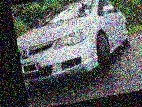car: (11, 0, 138, 92)
